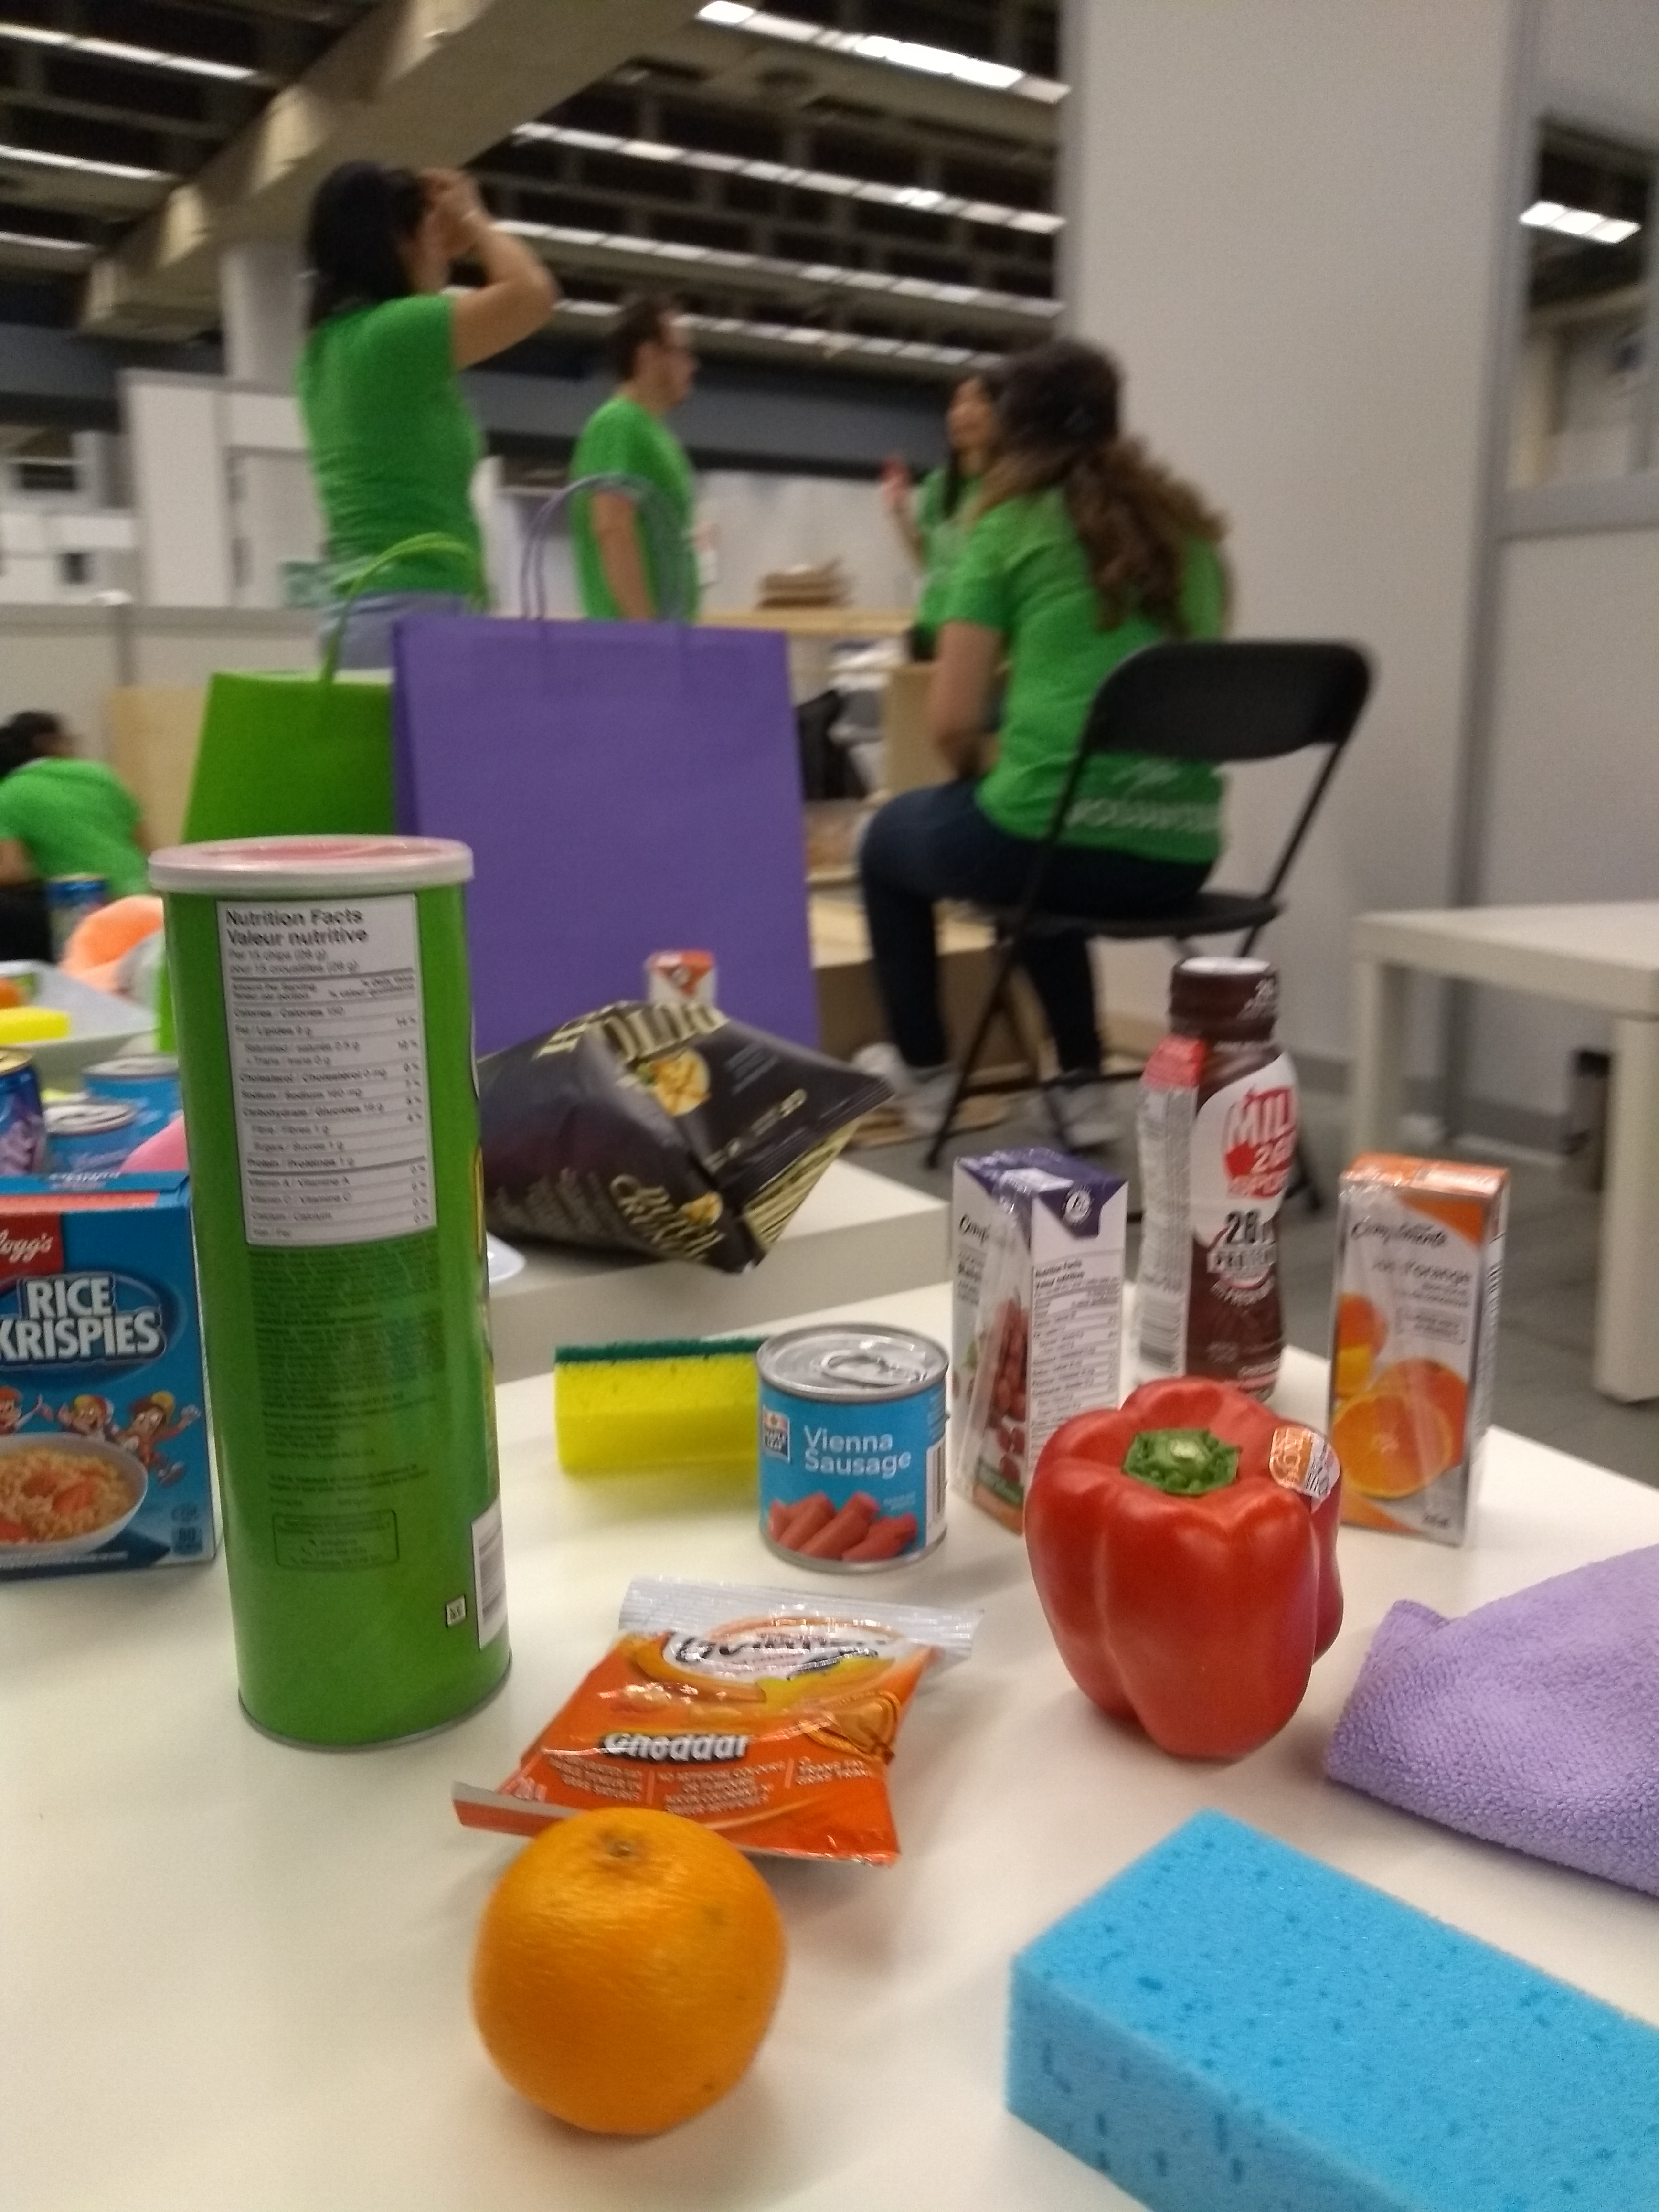cereal: (0, 1167, 211, 1576)
chocolate_drink: (1136, 944, 1310, 1406)
cloth_opl: (1324, 1540, 1659, 1900)
crackers: (530, 1581, 969, 1865)
grape_juice: (936, 1134, 1126, 1521)
orange: (471, 1804, 798, 2132)
orange_juice: (1319, 1139, 1507, 1550)
paprika: (1021, 1369, 1347, 1787)
potato_chips: (462, 982, 906, 1284)
pringles: (153, 826, 525, 1757)
sausages: (763, 1317, 960, 1566)
scrubby: (545, 1339, 772, 1474)
sponge_opl: (1000, 1797, 1659, 2196)
